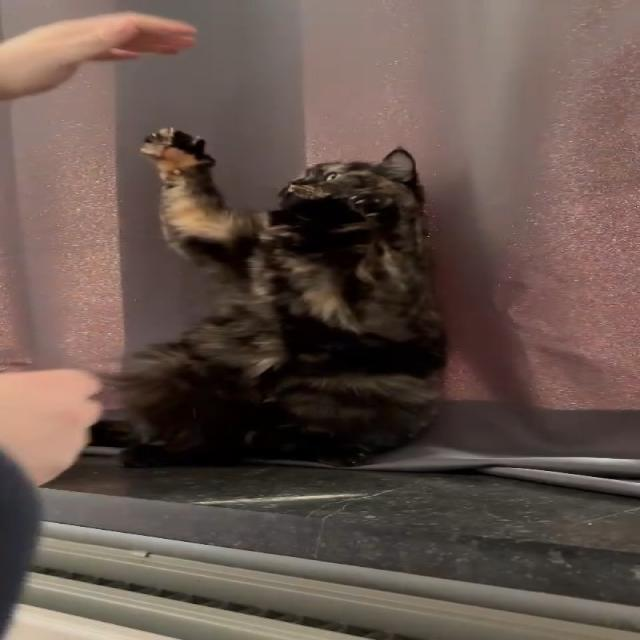authorized: (98, 126, 450, 469)
